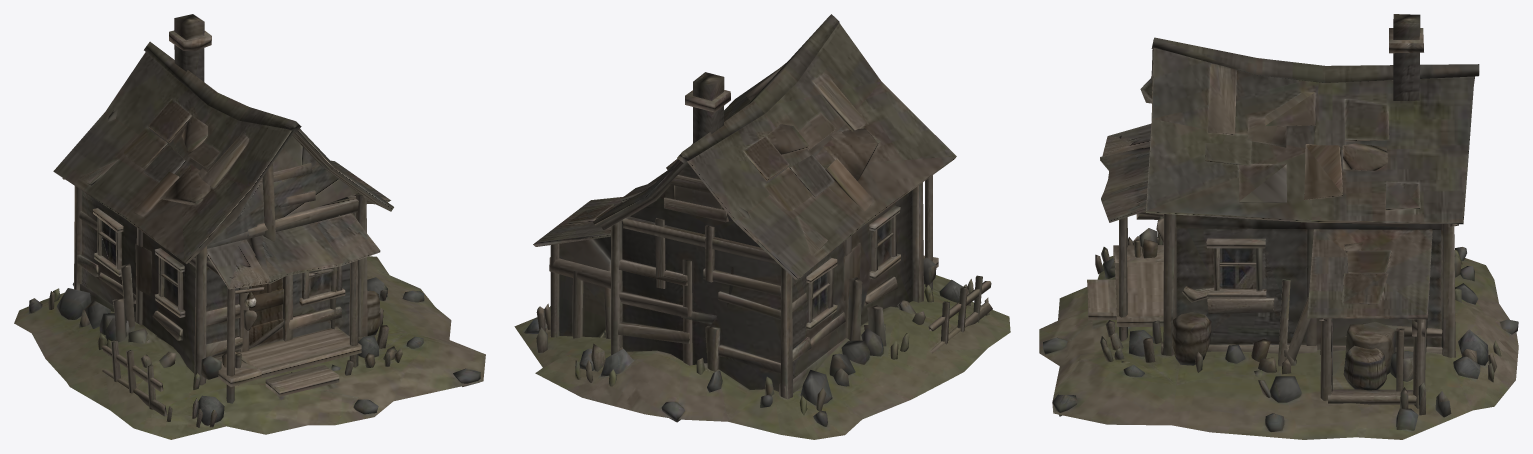
The model's file is pickman_house_3.glb.
The picture shows the model from 3 angles, left to right: view 1: azimuth 30°, elevation 25°; view 2: azimuth 150°, elevation 25°; view 3: azimuth 270°, elevation 25°; orthographic projection. The views are drawn at different scales.
Parts seen in each view (by area): view 1: PickmanHouse3Mesh; view 2: PickmanHouse3Mesh; view 3: PickmanHouse3Mesh.
Boxes of the visible parts, box(x1,y1,x2,y2) form: PickmanHouse3Mesh: box(14, 14, 485, 439); PickmanHouse3Mesh: box(514, 14, 1010, 439); PickmanHouse3Mesh: box(1039, 14, 1518, 439).
Size of the model in its own units: 2 by 1.49 by 2.
1 material, 1 textured.
